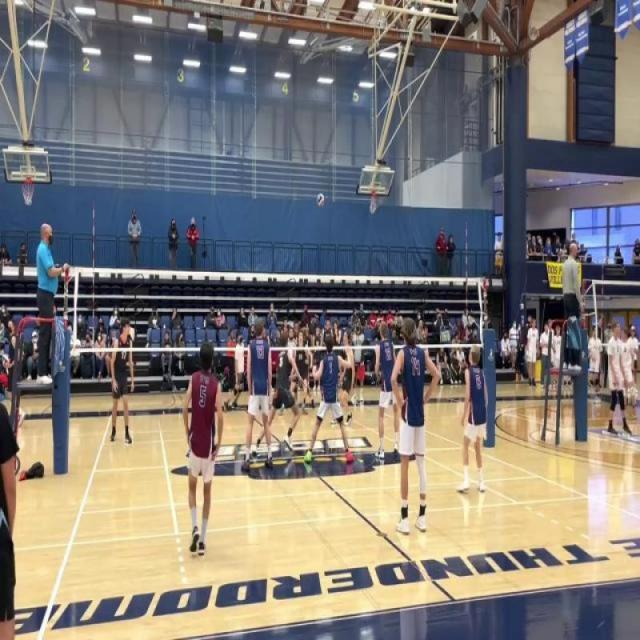volleyball: (316, 191, 325, 208), (1, 352, 10, 368)
